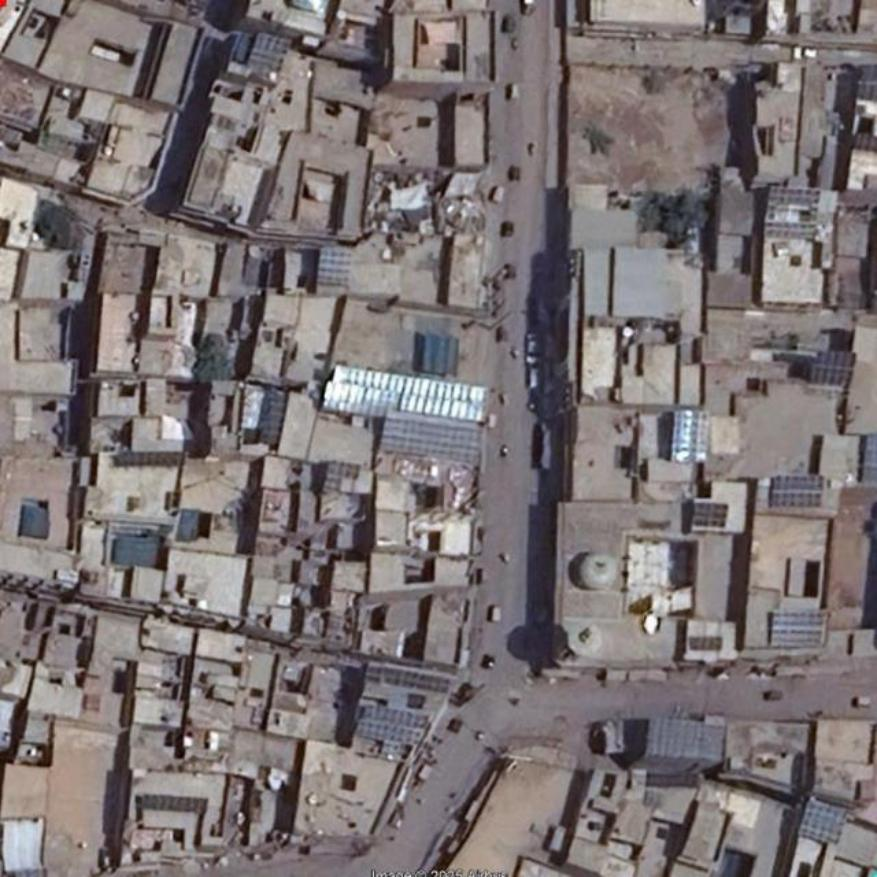Solarpanel: (324, 364, 489, 423), (381, 414, 482, 466), (357, 706, 430, 747), (797, 800, 850, 843), (670, 409, 707, 462), (770, 612, 825, 644), (770, 474, 822, 507), (811, 349, 855, 387), (249, 33, 289, 73), (316, 248, 353, 285), (767, 186, 820, 208), (765, 220, 819, 240), (693, 506, 729, 526)
